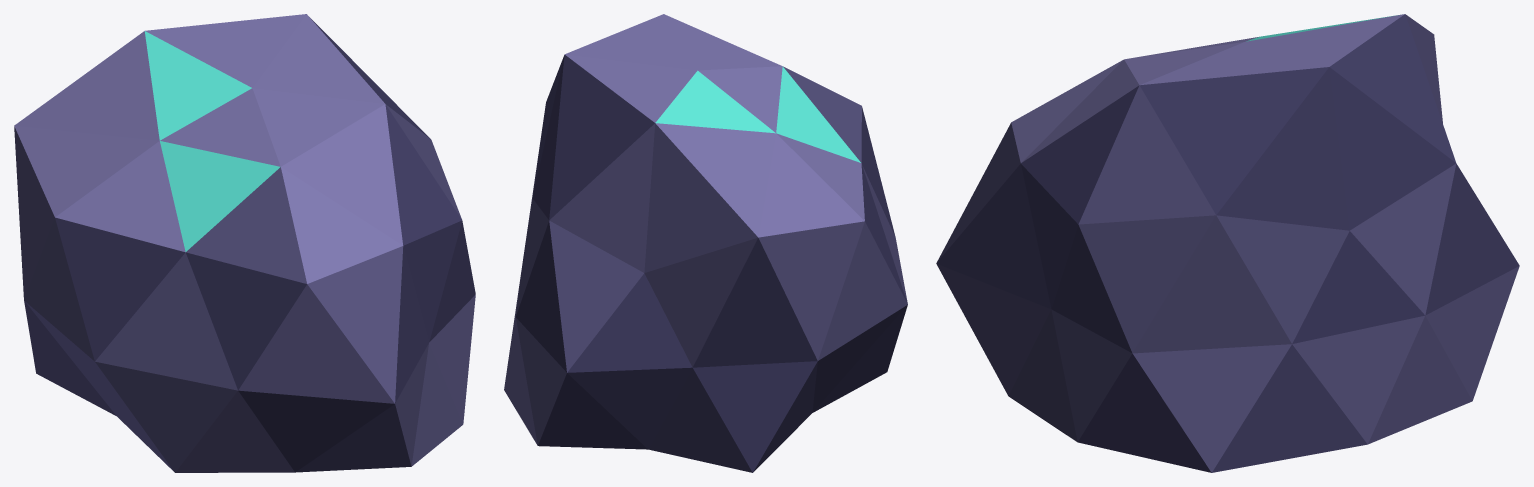
The model's file is rock_boulder_a_deep.fbx.
3 views of the same model, side by side, from view 1: azimuth 30°, elevation 25°; view 2: azimuth 150°, elevation 25°; view 3: azimuth 270°, elevation 25° (orthographic). The views are drawn at different scales.
Parts seen in each view (by area): view 1: rock_boulder_a_deep; view 2: rock_boulder_a_deep; view 3: rock_boulder_a_deep.
Part boxes in pixels (x1,y1,x2,y2): rock_boulder_a_deep: [14, 14, 475, 472]; rock_boulder_a_deep: [504, 14, 907, 472]; rock_boulder_a_deep: [936, 14, 1519, 472].
Size of the model in its own units: 835 by 709 by 1055.
Materials: 1 (1 with a texture image).
